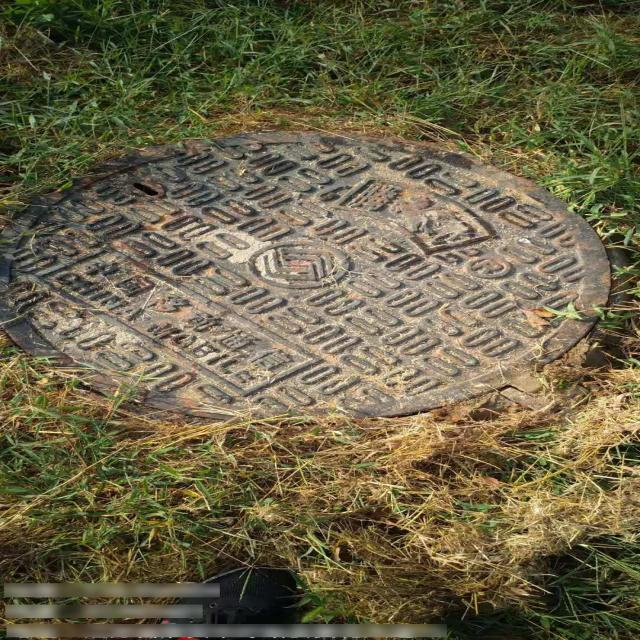Good: (10, 132, 615, 423)
